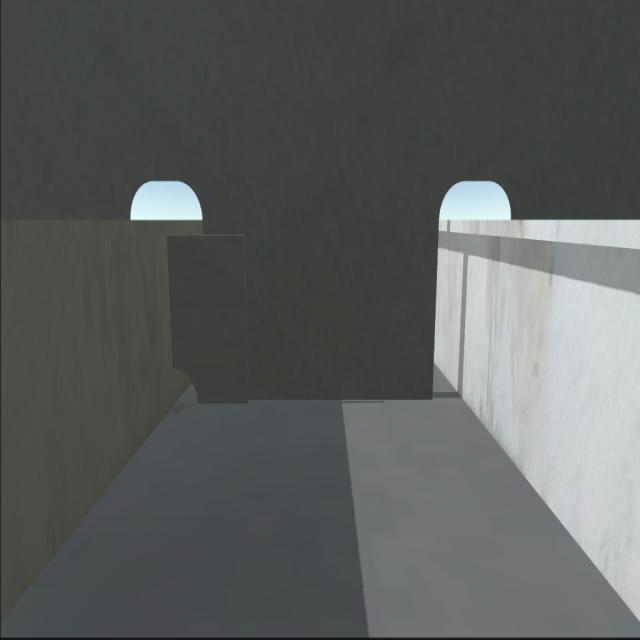fillet_hole: (171, 361, 202, 411)
fillet_yong_jeop_jang: (195, 395, 434, 408)
longi_yong_jeop_jang: (162, 232, 179, 363)
plate_CP01: (162, 234, 250, 404)
